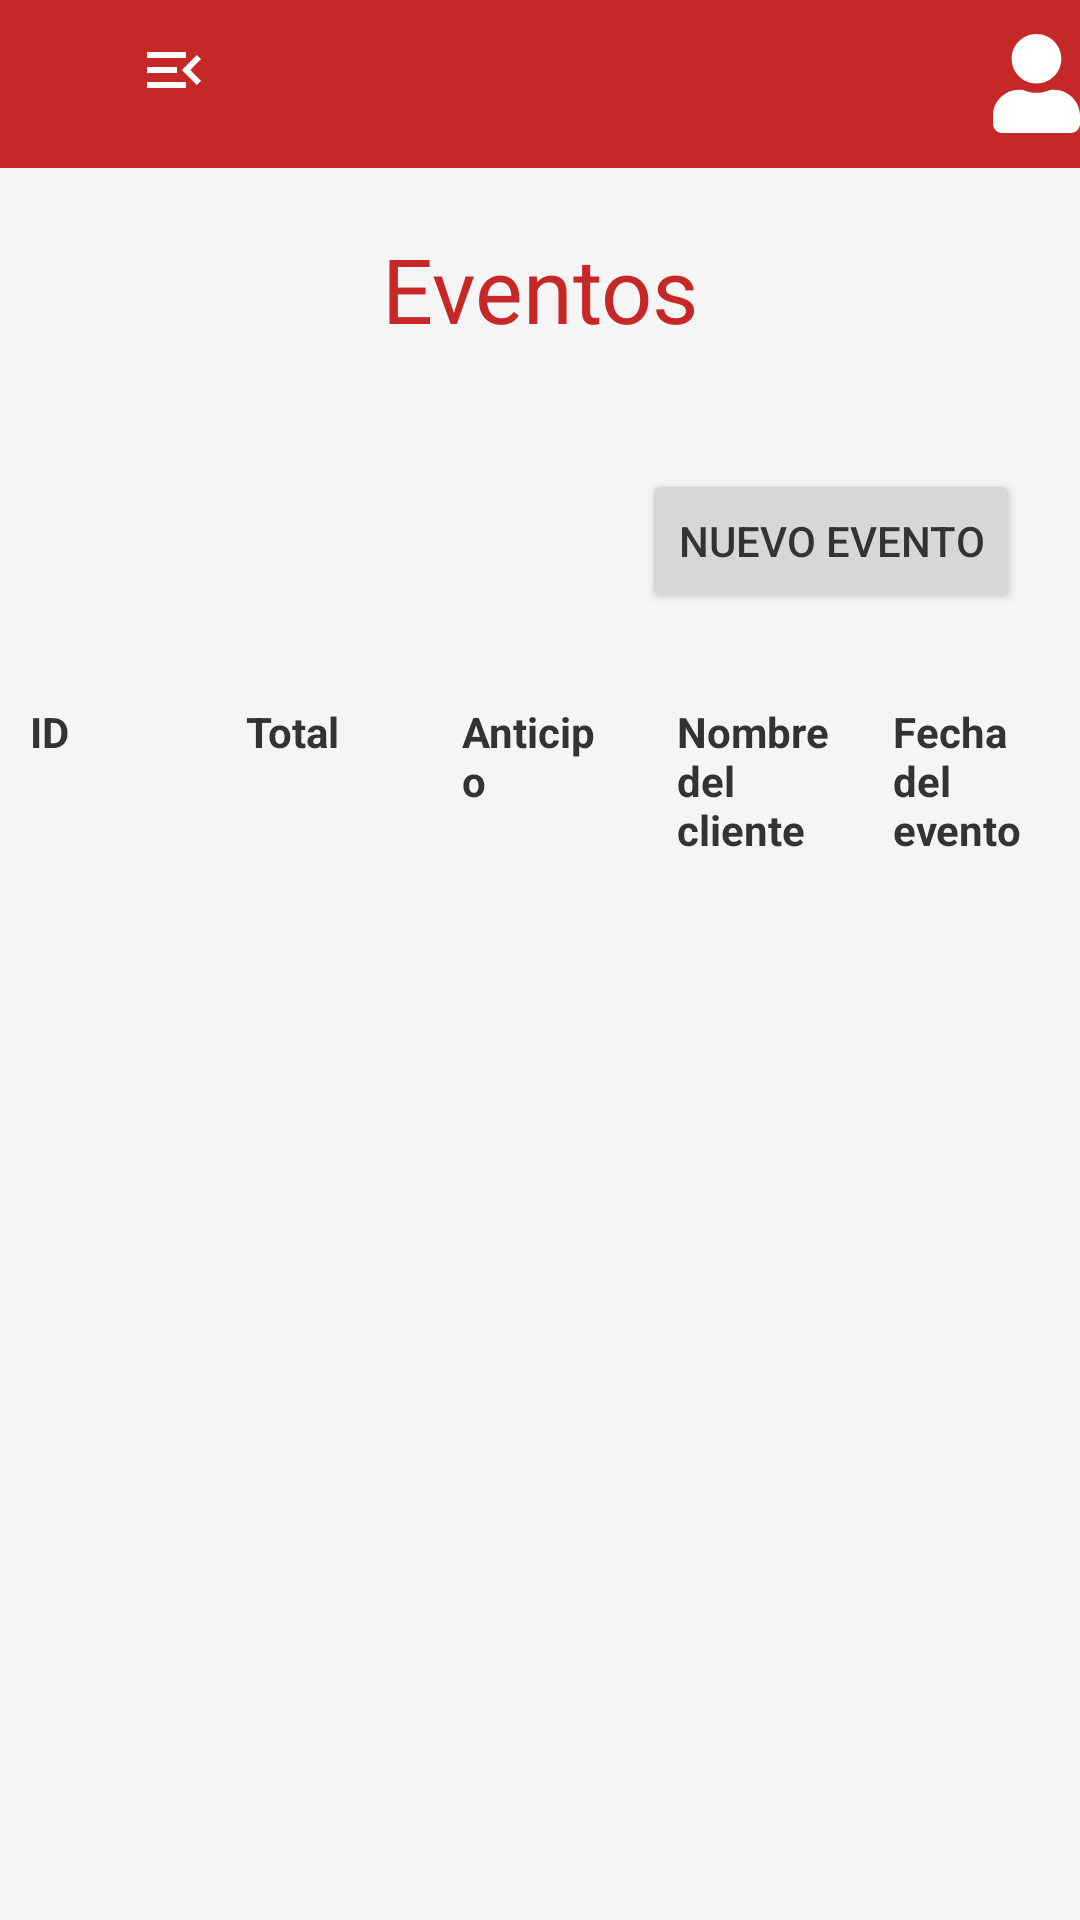

Icon bounding boxes for this 1080 × 1920 phone screenshot, format rect(x1, y1, x2, y2):
open: rect(147, 52, 201, 88)
user: rect(993, 34, 1080, 133)
